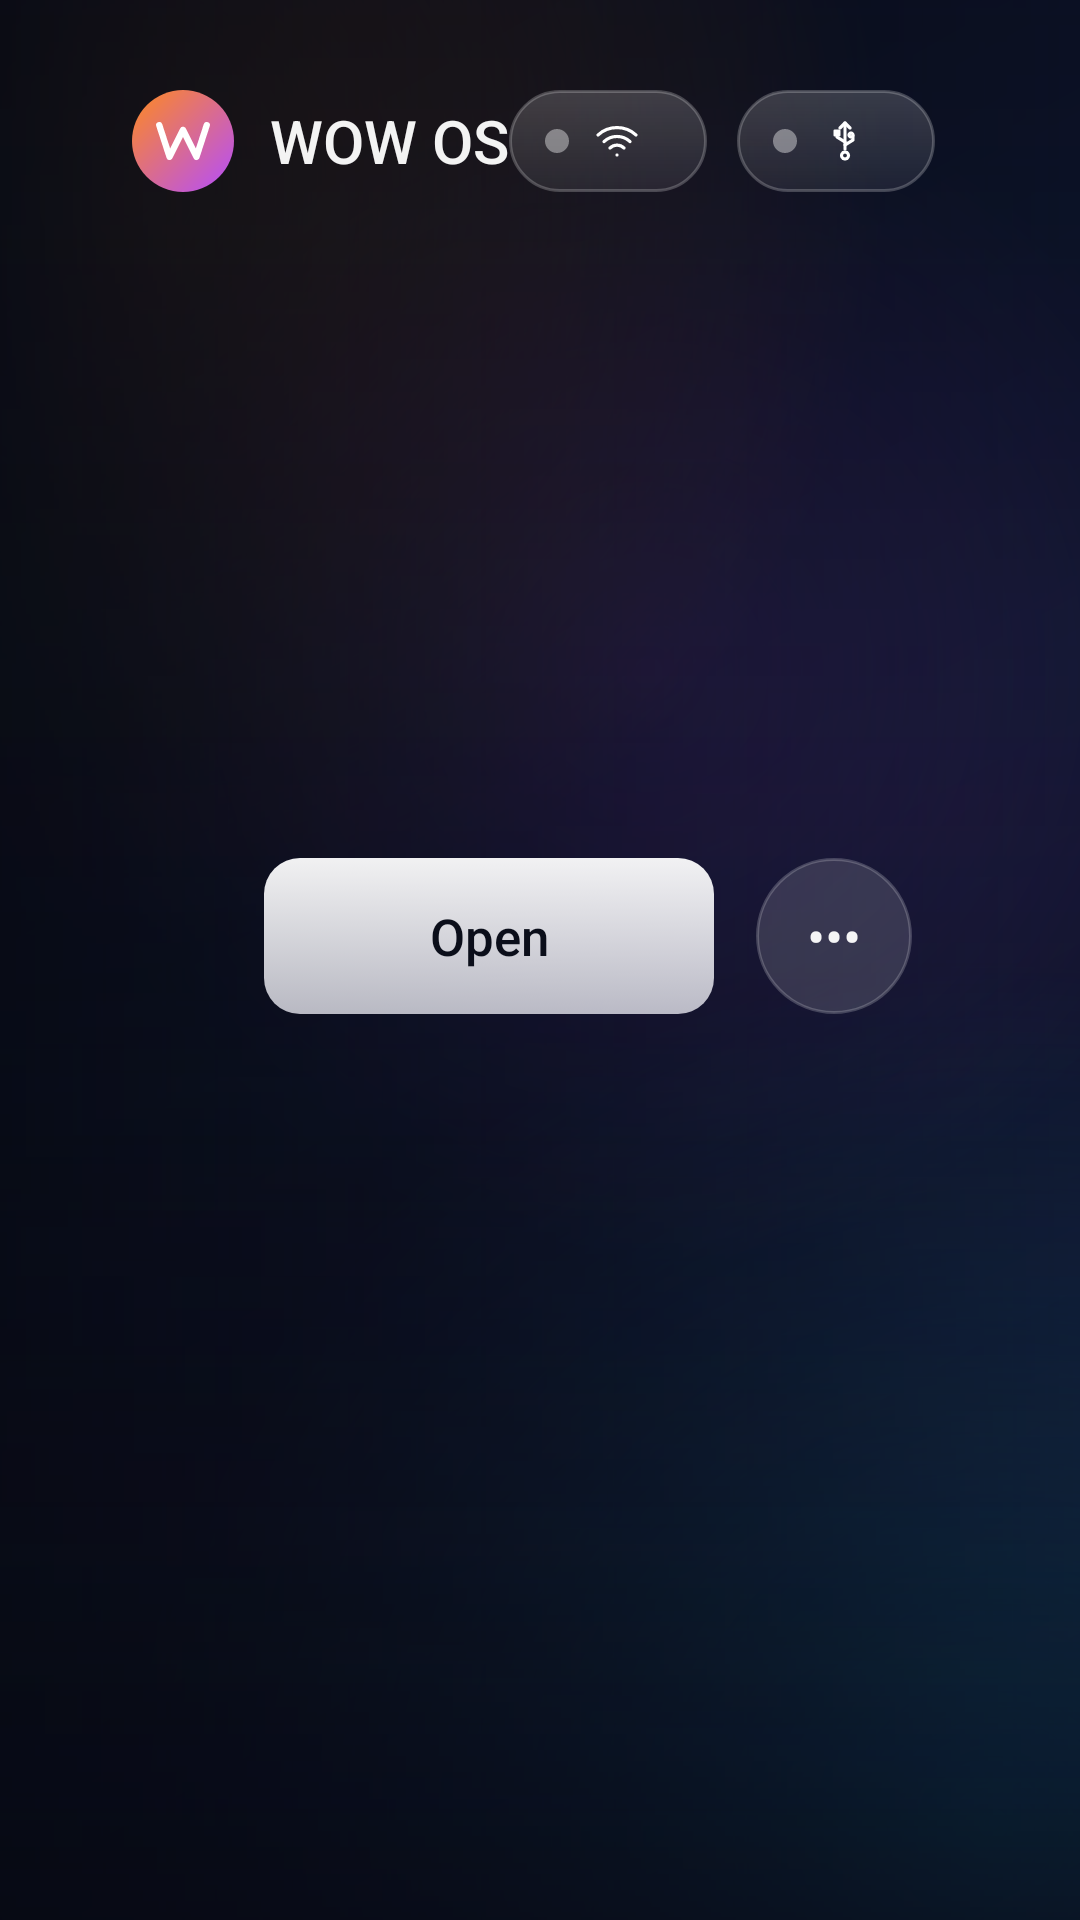

Where to tap for icons on this 1080 x 1920 app screen, as point (x, y):
dot off: point (557, 141), point (785, 141)
usb: point (844, 141)
wifi: point (617, 141)
